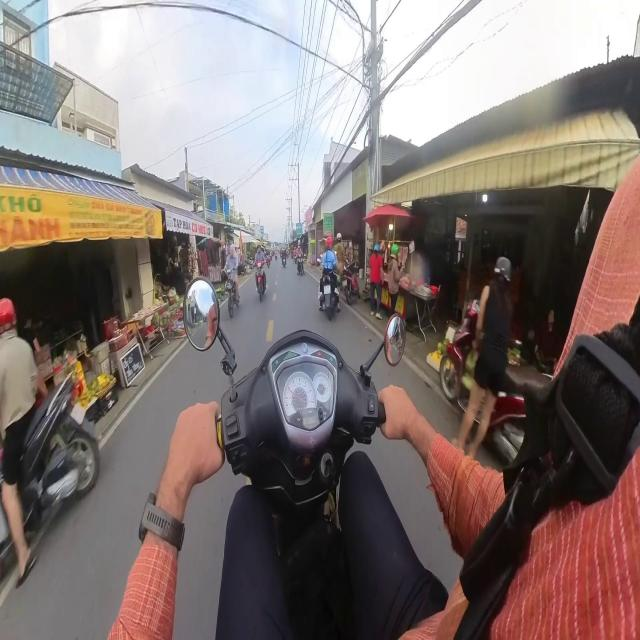motorcycle: (217, 315, 404, 637), (18, 376, 99, 537), (487, 380, 525, 462), (320, 273, 339, 320), (342, 261, 360, 305), (223, 271, 238, 318), (256, 261, 265, 302), (296, 256, 303, 275), (266, 254, 271, 268), (282, 255, 286, 266)
